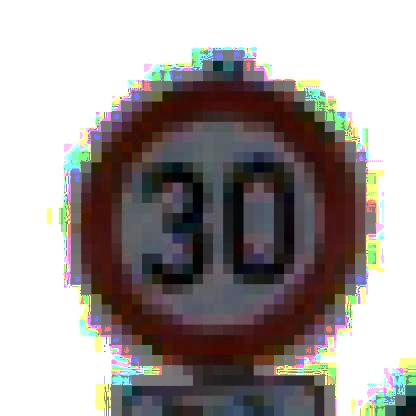Speed Limit -30-: (69, 67, 372, 364)
